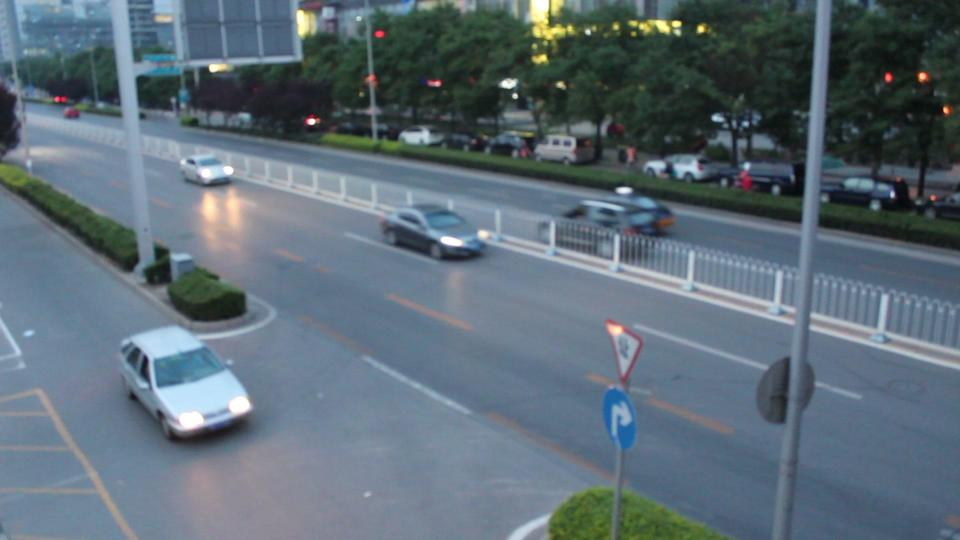Car: (121, 322, 254, 434), (539, 210, 649, 262), (382, 204, 487, 257), (562, 198, 673, 234), (180, 150, 236, 185)
